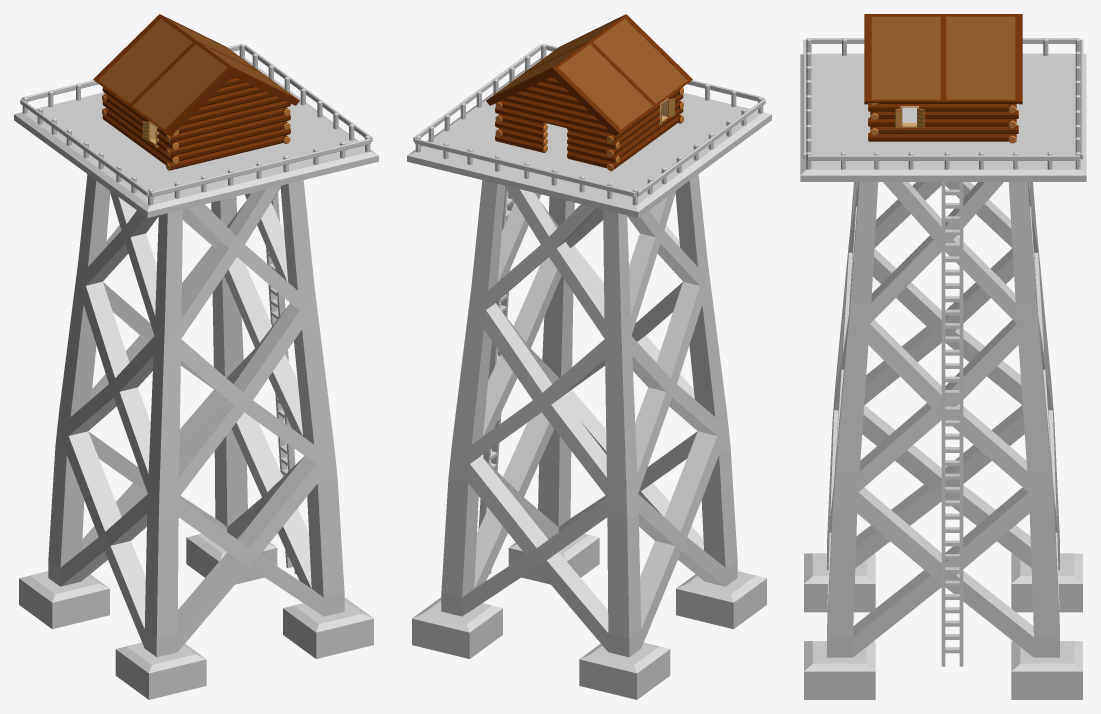
File: Hunter hideout 1.fbx
The picture shows the model from 3 angles, left to right: view 1: azimuth 30°, elevation 25°; view 2: azimuth 150°, elevation 25°; view 3: azimuth 270°, elevation 25°; orthographic projection. The views are drawn at different scales.
Parts seen in each view (by area): view 1: tower stuk 1, tower stuk 2, tower stuk 3, huis, platto, tower, railing, paaltjes, ladder; view 2: tower stuk 1, tower stuk 2, tower stuk 3, huis, platto, tower, railing, paaltjes, ladder; view 3: tower stuk 1, tower stuk 2, platto, huis, tower stuk 3, tower, ladder, railing, paaltjes.
Part boxes in pixels (left/top/right/bottom): tower stuk 1: left=48, top=390, right=344, bottom=657; tower stuk 2: left=57, top=246, right=335, bottom=502; tower stuk 3: left=76, top=174, right=316, bottom=342; huis: left=93, top=14, right=299, bottom=170; platto: left=14, top=58, right=378, bottom=217; tower: left=19, top=533, right=373, bottom=699; railing: left=20, top=44, right=372, bottom=197; paaltjes: left=22, top=44, right=370, bottom=205; ladder: left=266, top=192, right=297, bottom=574; tower stuk 1: left=441, top=390, right=737, bottom=657; tower stuk 2: left=450, top=246, right=728, bottom=502; tower stuk 3: left=469, top=174, right=709, bottom=342; huis: left=486, top=14, right=692, bottom=171; platto: left=407, top=58, right=771, bottom=217; tower: left=412, top=533, right=766, bottom=699; railing: left=413, top=44, right=765, bottom=197; paaltjes: left=415, top=44, right=763, bottom=205; ladder: left=478, top=188, right=514, bottom=574; tower stuk 1: left=827, top=404, right=1059, bottom=657; tower stuk 2: left=834, top=244, right=1052, bottom=492; platto: left=800, top=53, right=1086, bottom=181; huis: left=864, top=14, right=1022, bottom=143; tower stuk 3: left=849, top=182, right=1037, bottom=323; tower: left=804, top=553, right=1082, bottom=699; ladder: left=941, top=182, right=963, bottom=666; railing: left=803, top=38, right=1083, bottom=160; paaltjes: left=806, top=38, right=1080, bottom=169.
Size of the model in its own units: 1600 by 3862 by 1600.
